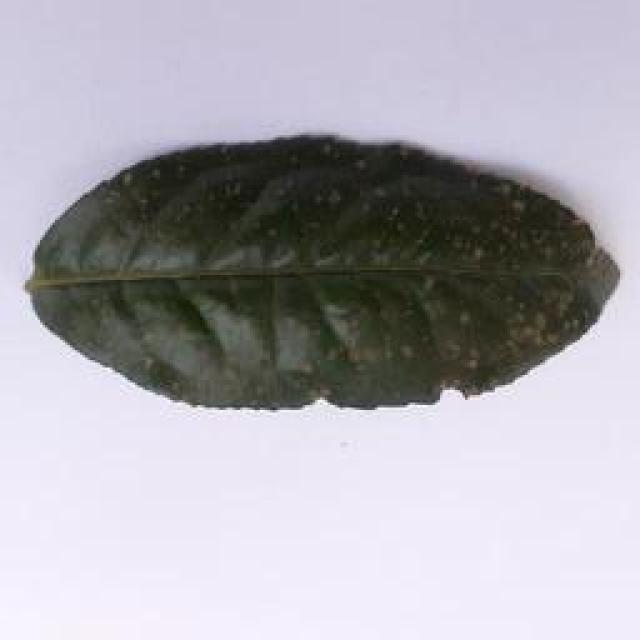Algal Leaf Spot: (0, 136, 618, 418)
